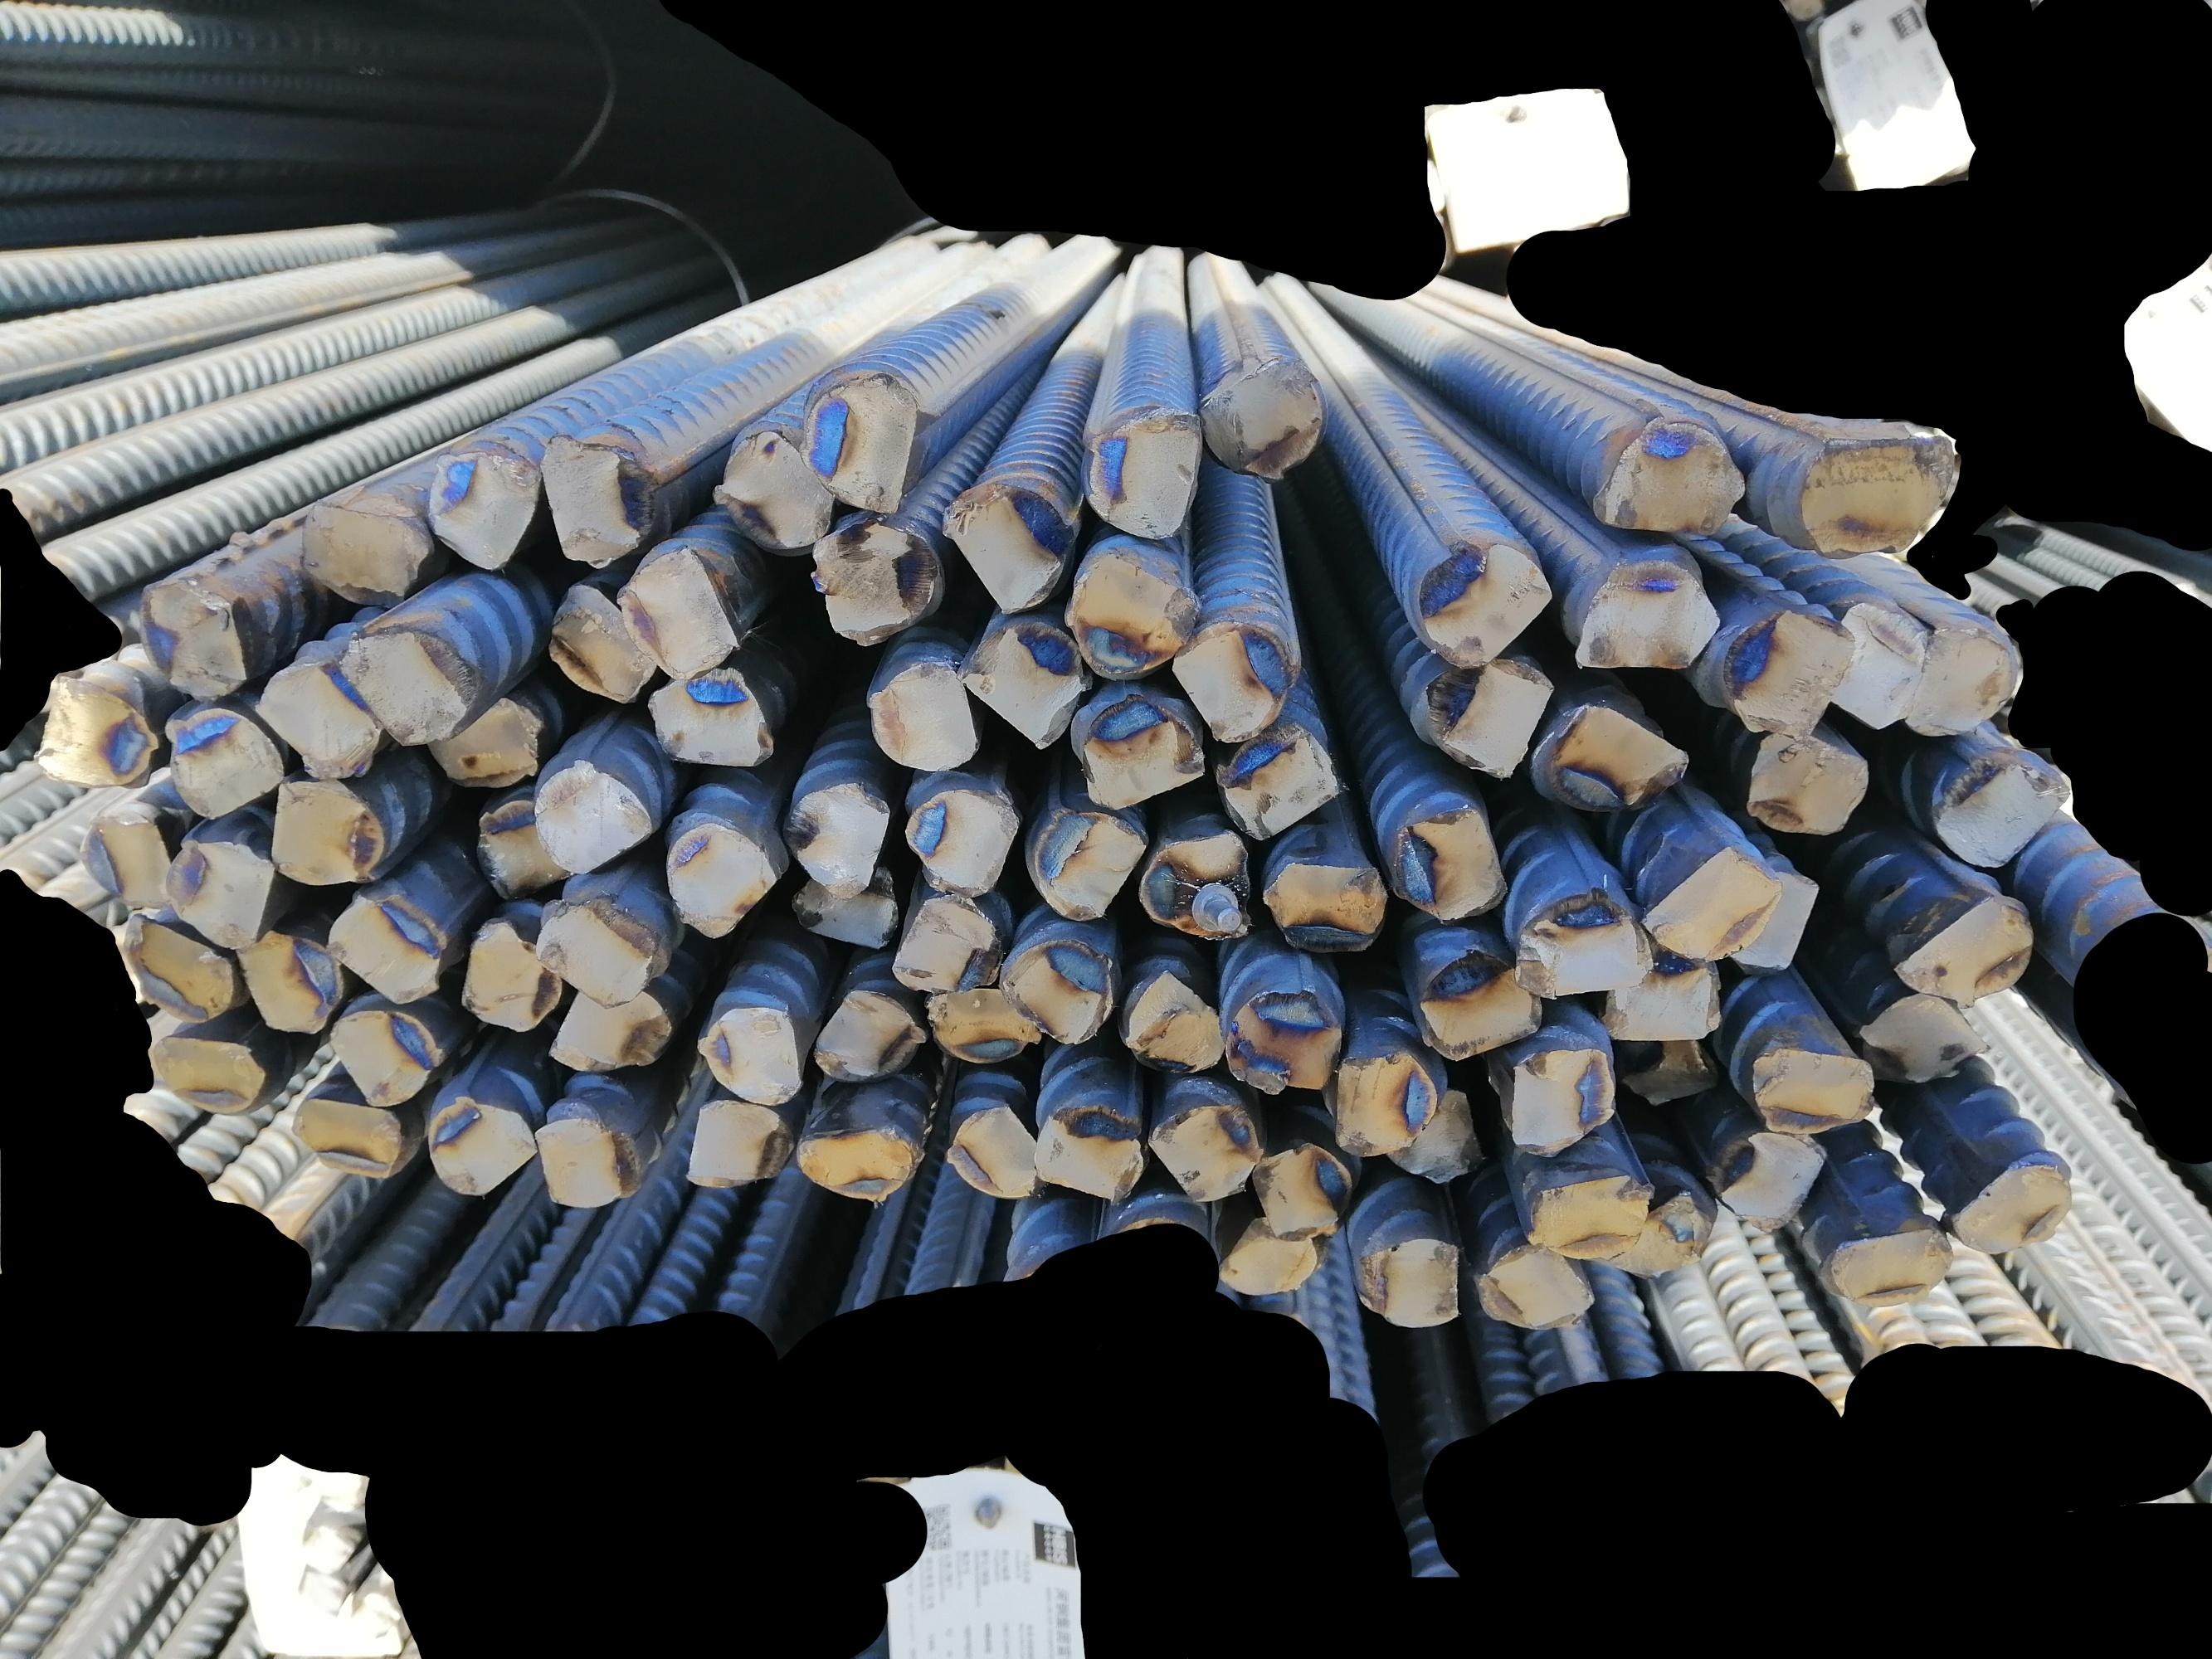bar: (1578, 404, 1748, 544), (1792, 430, 1961, 559), (1717, 598, 1858, 742), (797, 362, 920, 521), (1630, 842, 1783, 967), (1884, 887, 2038, 1012), (610, 538, 743, 681), (331, 624, 479, 751), (1062, 544, 1199, 680), (1407, 540, 1555, 666), (953, 619, 1086, 758), (1536, 699, 1691, 817), (1565, 556, 1722, 673), (802, 514, 940, 647), (1077, 403, 1206, 544), (706, 425, 838, 561), (1415, 655, 1557, 782), (1506, 884, 1654, 1002), (526, 890, 666, 1016), (940, 484, 1072, 615), (535, 430, 657, 570), (1194, 359, 1325, 486), (1074, 690, 1210, 812), (1163, 620, 1299, 742), (1210, 720, 1344, 842), (291, 495, 432, 610), (1930, 756, 2073, 870), (248, 662, 380, 784), (108, 903, 241, 1023), (31, 671, 162, 791), (153, 704, 286, 823), (1410, 945, 1544, 1061), (415, 448, 537, 575), (540, 575, 657, 708), (1820, 598, 1930, 737), (260, 772, 389, 890), (1032, 795, 1147, 927), (1849, 983, 1994, 1086), (131, 579, 249, 704), (157, 829, 275, 955), (858, 655, 983, 774), (661, 817, 777, 945), (521, 760, 652, 873), (1222, 978, 1344, 1098), (1903, 622, 2025, 742), (774, 775, 892, 899), (324, 887, 448, 1004), (1138, 821, 1253, 946), (643, 666, 777, 772), (1736, 734, 1870, 840), (899, 784, 1023, 899), (1389, 809, 1510, 924), (882, 884, 1006, 995), (997, 934, 1114, 1051), (1700, 1126, 1825, 1234), (1260, 849, 1388, 955), (1745, 1039, 1879, 1138), (1522, 1164, 1658, 1262), (422, 692, 553, 793), (225, 929, 345, 1037), (1121, 957, 1227, 1077), (790, 1119, 929, 1209), (1506, 1046, 1618, 1159), (453, 918, 563, 1033), (1328, 1044, 1436, 1161), (321, 1004, 443, 1107), (537, 983, 675, 1073), (1025, 1105, 1150, 1204), (1590, 1185, 1722, 1279), (1944, 1159, 2078, 1251), (1143, 1103, 1265, 1204), (420, 1094, 537, 1199), (692, 1004, 809, 1107), (286, 1089, 406, 1187), (812, 985, 927, 1086), (1598, 951, 1729, 1040), (1480, 1234, 1598, 1331), (68, 809, 174, 915), (467, 795, 572, 903), (675, 1094, 797, 1187), (1825, 1227, 1958, 1310), (1208, 1213, 1327, 1305), (1248, 1140, 1354, 1243), (526, 1117, 647, 1208), (1351, 1236, 1464, 1330), (143, 1032, 267, 1117), (784, 863, 903, 951), (1384, 1089, 1489, 1187), (917, 983, 1044, 1063), (945, 1105, 1044, 1201), (1729, 864, 1818, 969), (1619, 1035, 1720, 1110)
